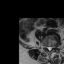CCS_normal: (48, 44, 50, 53)
LFS_normal: (52, 43, 54, 49)
LLS_normal: (50, 44, 52, 52)
RFS_stenosis: (44, 43, 46, 49)
RLS_normal: (46, 43, 48, 51)
